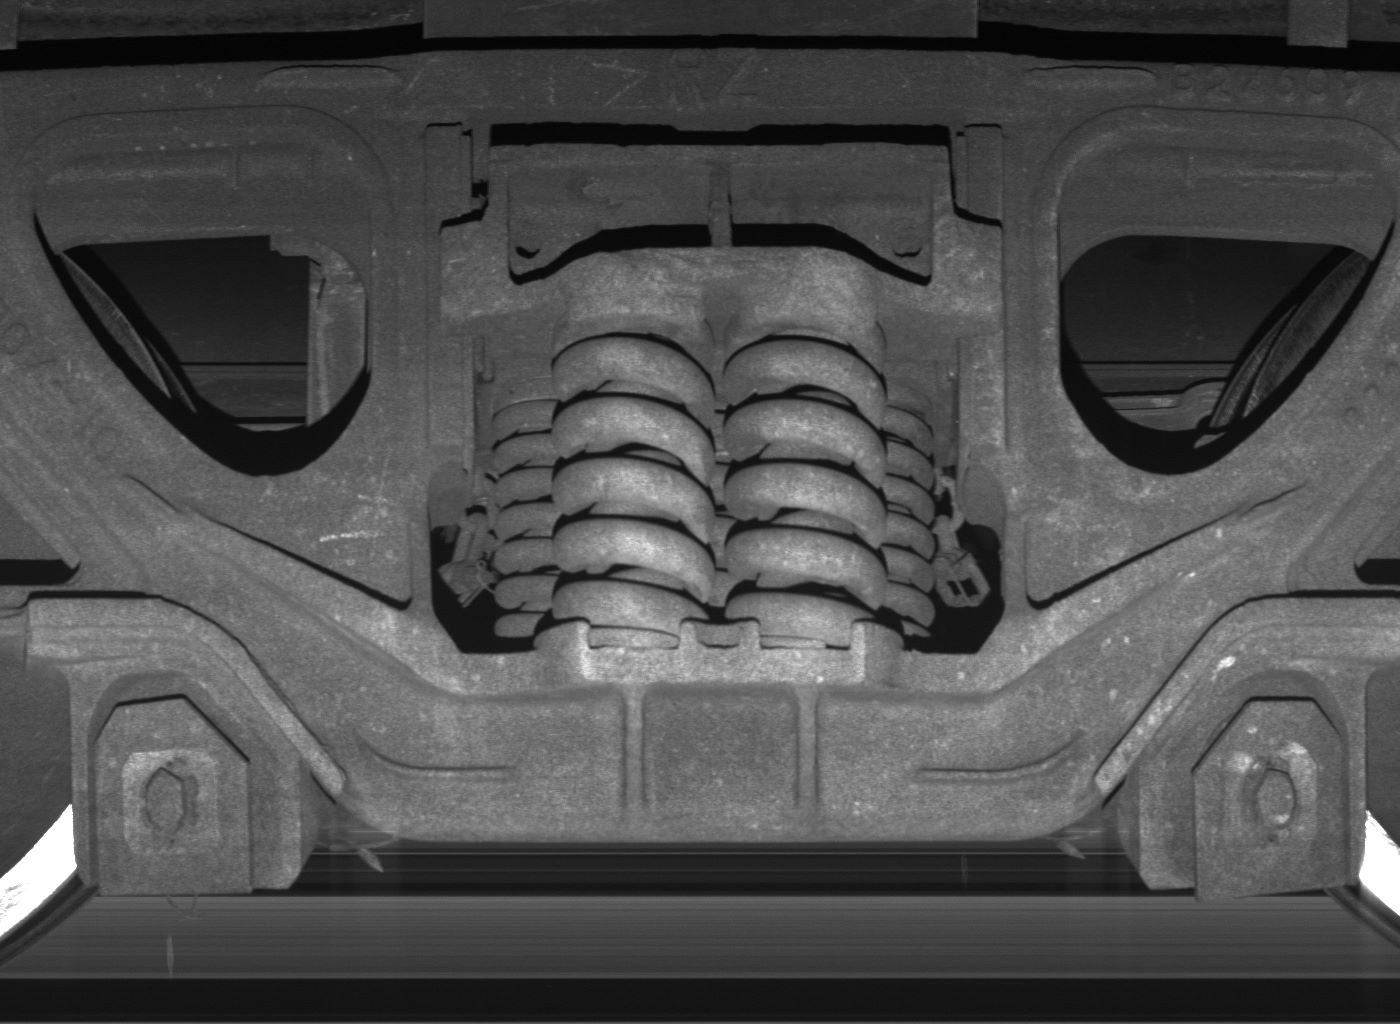Locking plate: (1133, 661, 1368, 903)
normal: (73, 650, 302, 892)
